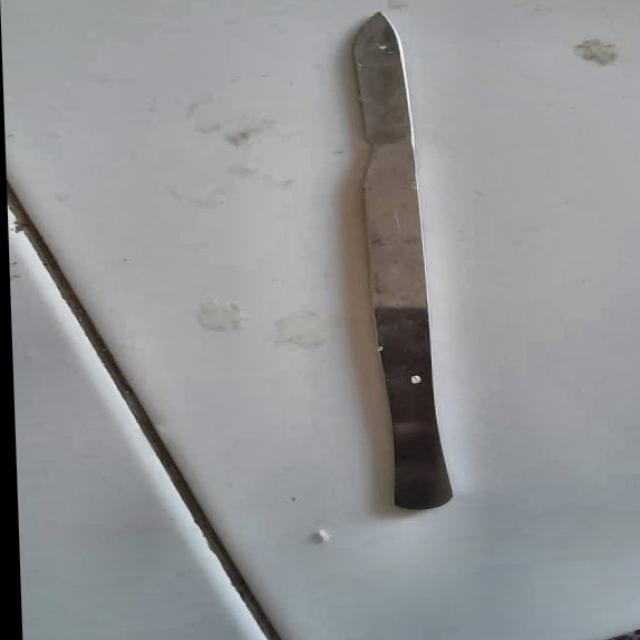Knife: (340, 8, 462, 523)
